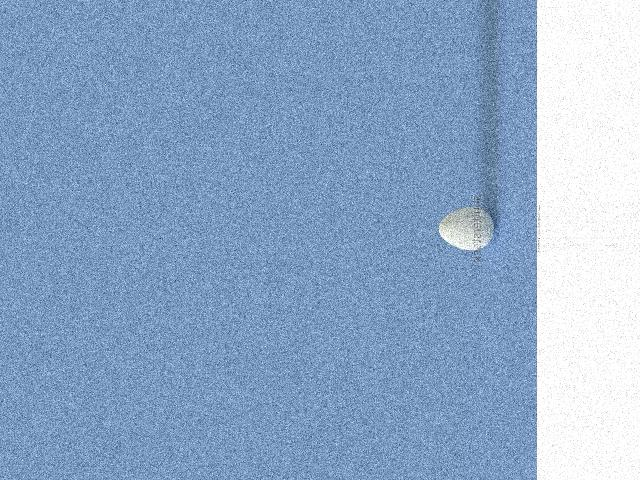egg: (438, 207, 494, 250)
